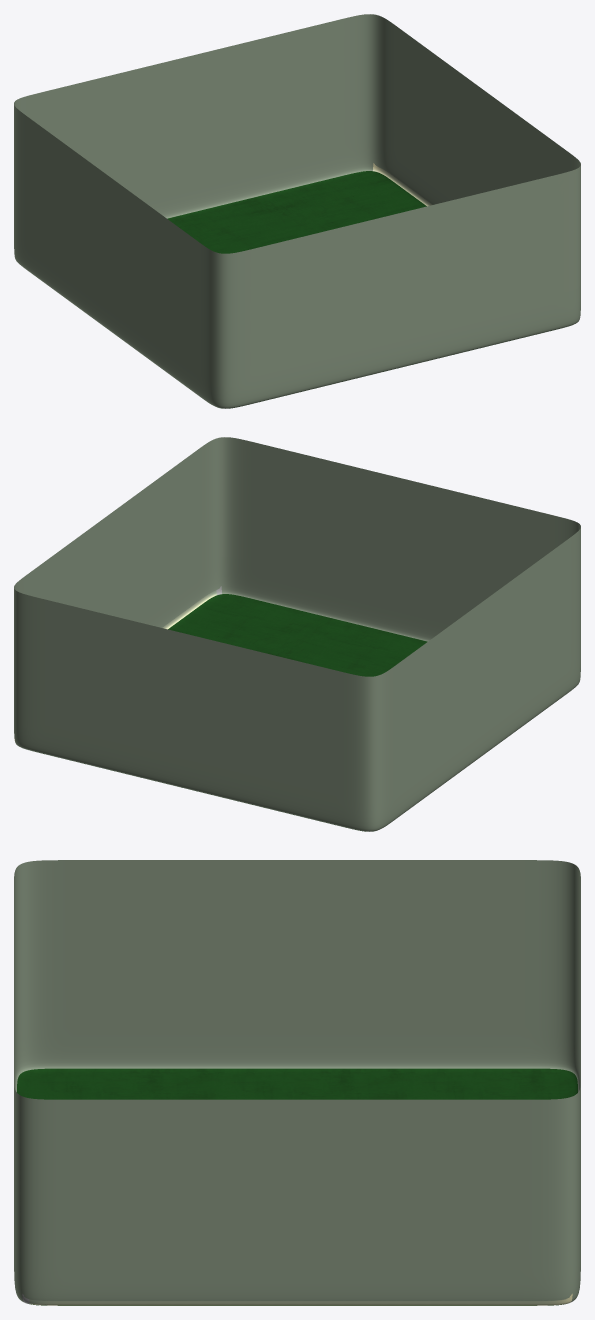
File: Nature_Room.glb
The picture shows the model from 3 angles, top to bottom: view 1: azimuth 30°, elevation 25°; view 2: azimuth 150°, elevation 25°; view 3: azimuth 270°, elevation 25°; orthographic projection. The views are drawn at different scales.
Visible parts, largest first — view 1: playgroundRoomLOW; view 2: playgroundRoomLOW; view 3: playgroundRoomLOW.
Boxes of the visible parts, x1,y1,x2,y2 form: playgroundRoomLOW: [14, 14, 580, 408]; playgroundRoomLOW: [14, 437, 580, 831]; playgroundRoomLOW: [14, 860, 580, 1305].
Bounding box in the file's own units: 50 × 20.38 × 50.
Materials: 1 (1 with a texture image).
